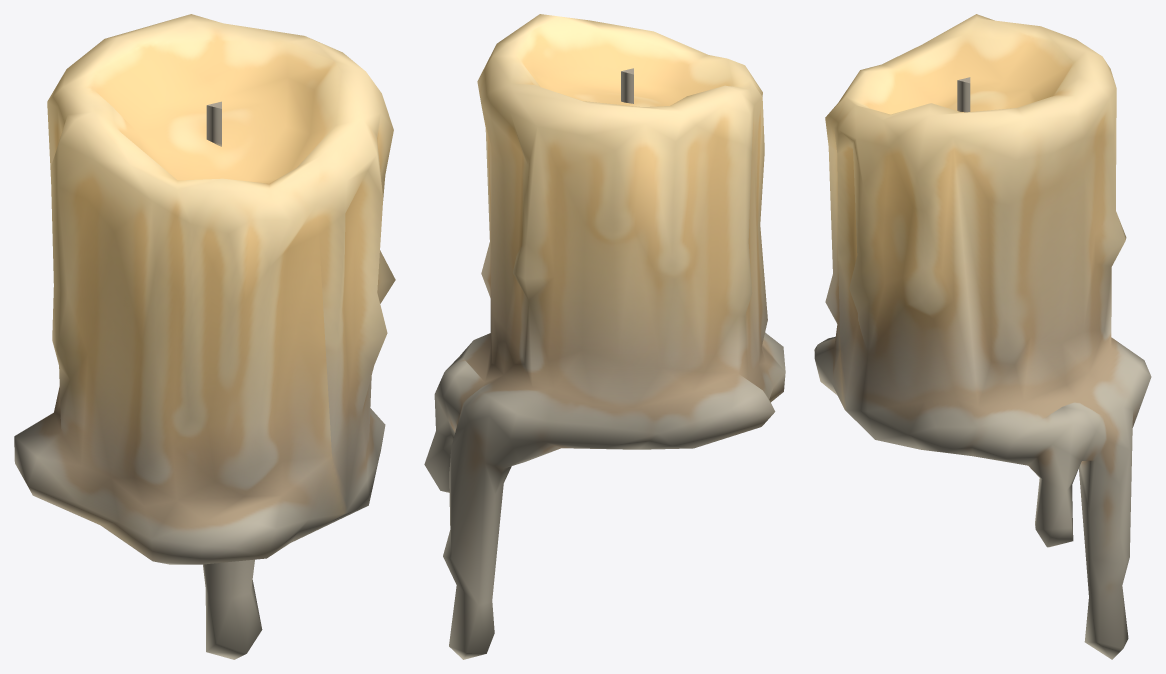
The model's file is SM_CandleFat_02.fbx.
3 renders of one model, left to right at view 1: azimuth 30°, elevation 25°; view 2: azimuth 150°, elevation 25°; view 3: azimuth 270°, elevation 25°, orthographic. The views are drawn at different scales.
Visible parts, largest first — view 1: SM_CandleFat_02_LOD0; view 2: SM_CandleFat_02_LOD0; view 3: SM_CandleFat_02_LOD0.
Part boxes in pixels (bbox=[...]): SM_CandleFat_02_LOD0: bbox=[14, 14, 395, 659]; SM_CandleFat_02_LOD0: bbox=[424, 14, 785, 659]; SM_CandleFat_02_LOD0: bbox=[814, 14, 1151, 659].
Bounding box in the file's own units: 19.83 × 19.62 × 35.74.
